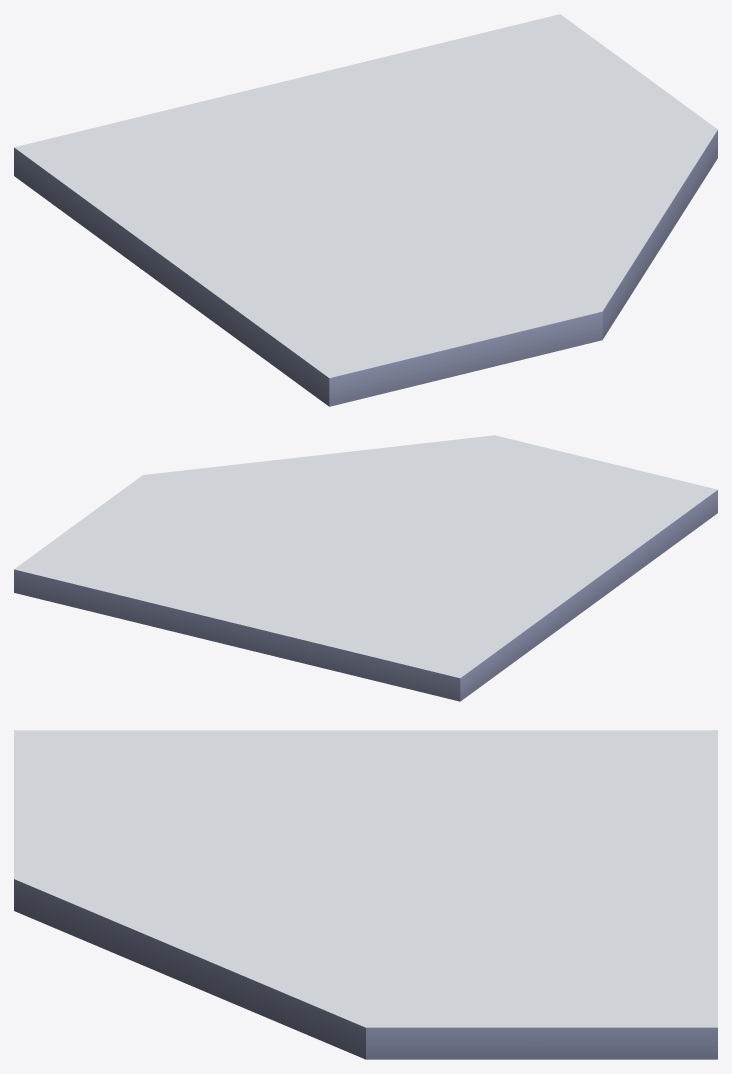
The model's file is kenney-building-floor-corner-diagonal.glb.
3 views of the same model, one above another, from view 1: azimuth 30°, elevation 25°; view 2: azimuth 150°, elevation 25°; view 3: azimuth 270°, elevation 25° (orthographic). The views are drawn at different scales.
Visible parts, largest first — view 1: floor-corner-diagonal; view 2: floor-corner-diagonal; view 3: floor-corner-diagonal.
Boxes of the visible parts, x1=… form: floor-corner-diagonal: x1=14, y1=14, x2=717, y2=406; floor-corner-diagonal: x1=14, y1=435, x2=717, y2=701; floor-corner-diagonal: x1=14, y1=730, x2=717, y2=1059.
Size of the model in its own units: 2 by 0.1001 by 2.
Materials: 1 (1 with a texture image).
